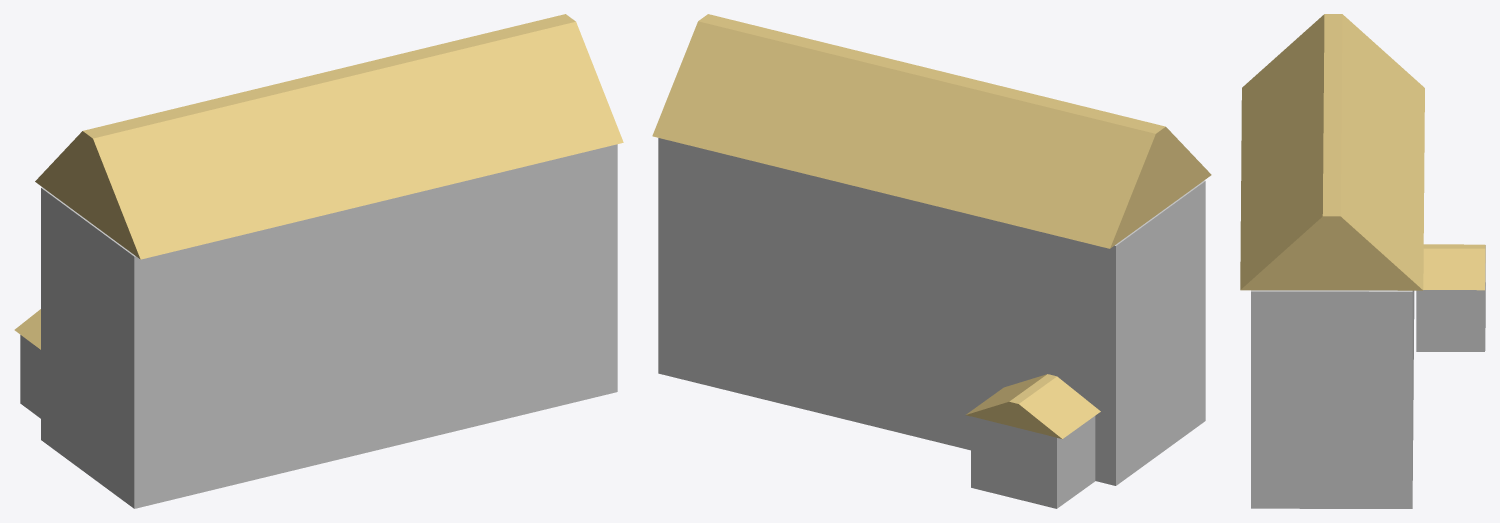
File: dragonHouse.fbx
3 views of the same model, side by side, from view 1: azimuth 30°, elevation 25°; view 2: azimuth 150°, elevation 25°; view 3: azimuth 270°, elevation 25° (orthographic). The views are drawn at different scales.
Visible parts, largest first — view 1: dragonShed, dragonShedRoof, dragonHousePortico; view 2: dragonShed, dragonShedRoof, dragonHousePortico, dragonHousePorticoRoof; view 3: dragonShedRoof, dragonShed, dragonHousePortico, dragonHousePorticoRoof.
Boxes of the visible parts, x1,y1,x2,y2 form: dragonShed: [41, 144, 617, 508]; dragonShedRoof: [35, 14, 623, 259]; dragonHousePortico: [20, 335, 40, 418]; dragonShed: [658, 138, 1205, 485]; dragonShedRoof: [652, 14, 1211, 248]; dragonHousePortico: [971, 416, 1095, 508]; dragonHousePorticoRoof: [965, 374, 1100, 438]; dragonShedRoof: [1240, 14, 1424, 290]; dragonShed: [1251, 290, 1414, 508]; dragonHousePortico: [1416, 263, 1485, 351]; dragonHousePorticoRoof: [1423, 244, 1485, 290].
Bounding box in the file's own units: 10.01 × 6.73 × 5.12.
